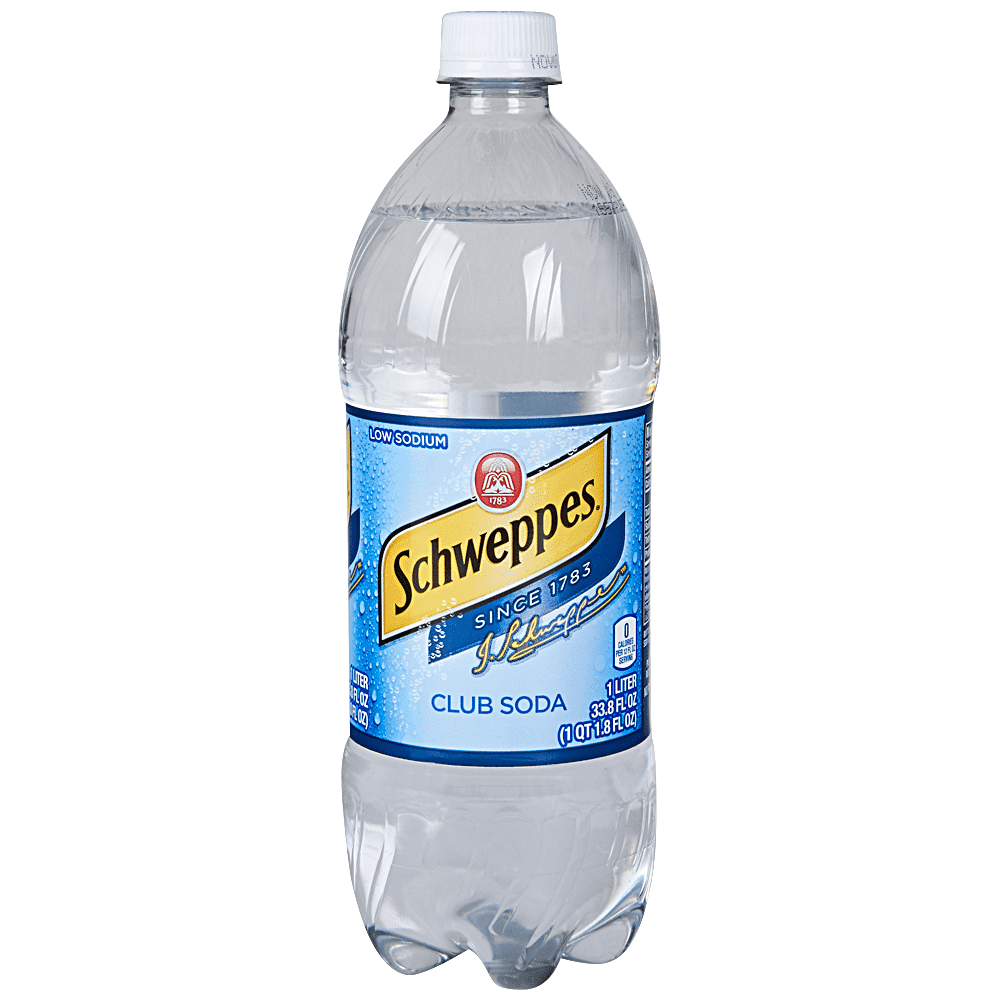bottle: (331, 4, 725, 985)
